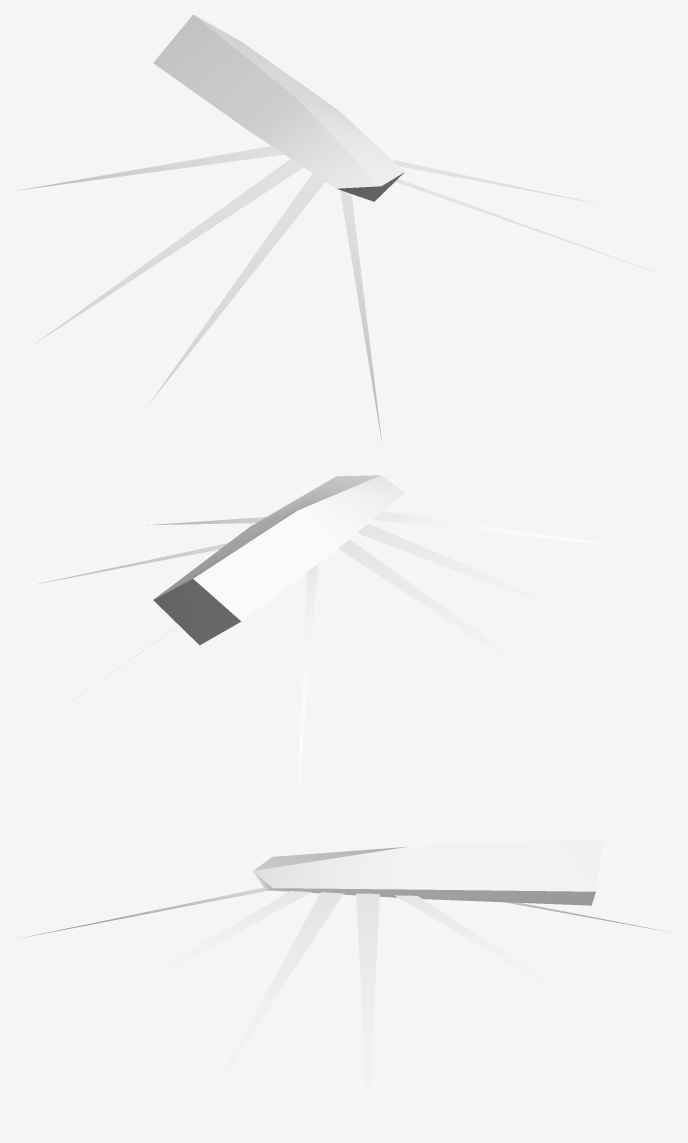
Rendered from SpiderCollider.obj.
3 views of the same model, one above another, from view 1: azimuth 30°, elevation 25°; view 2: azimuth 150°, elevation 25°; view 3: azimuth 270°, elevation 25° (orthographic). The views are drawn at different scales.
Parts seen in each view (by area): view 1: pCube1, pPlane1, pPlane2, pPlane3, pPlane4; view 2: pCube1, pPlane1, pPlane2, pPlane4, pPlane3; view 3: pCube1, pPlane1, pPlane2, pPlane3, pPlane4.
Boxes of the visible parts, left/top/right/bottom form: pCube1: left=153, top=14, right=404, bottom=201; pPlane1: left=34, top=159, right=604, bottom=344; pPlane2: left=149, top=173, right=662, bottom=403; pPlane3: left=340, top=190, right=419, bottom=444; pPlane4: left=17, top=146, right=283, bottom=190; pCube1: left=153, top=475, right=404, bottom=645; pPlane1: left=34, top=539, right=605, bottom=724; pPlane2: left=148, top=517, right=669, bottom=652; pPlane4: left=111, top=563, right=318, bottom=807; pPlane3: left=373, top=511, right=632, bottom=547; pCube1: left=253, top=839, right=603, bottom=905; pPlane1: left=356, top=893, right=379, bottom=1125; pPlane2: left=199, top=892, right=343, bottom=1115; pPlane3: left=18, top=887, right=311, bottom=1052; pPlane4: left=394, top=895, right=670, bottom=1059.
Size of the model in its own units: 9.26 by 2.59 by 9.81.
